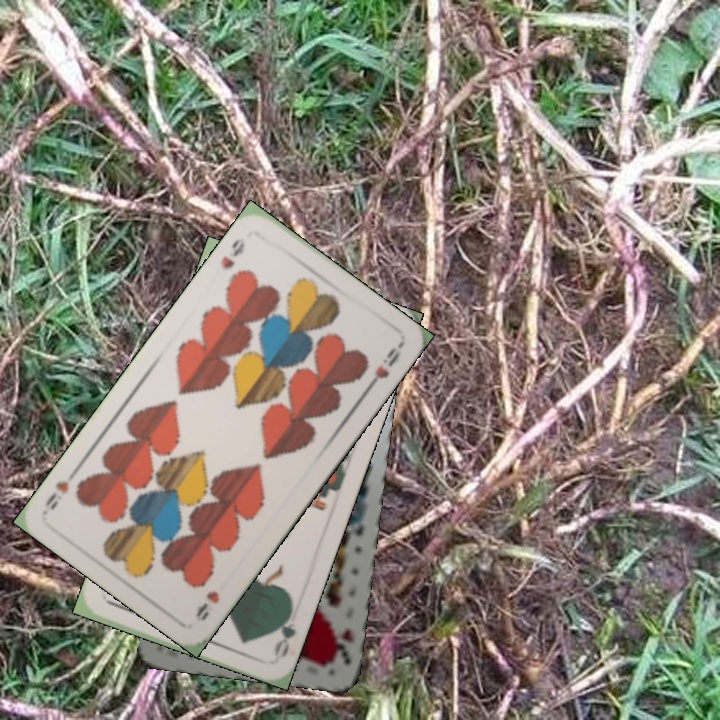GO: (270, 601, 299, 661)
H9: (217, 234, 248, 272), (191, 587, 222, 624)
HK: (326, 624, 355, 667)
